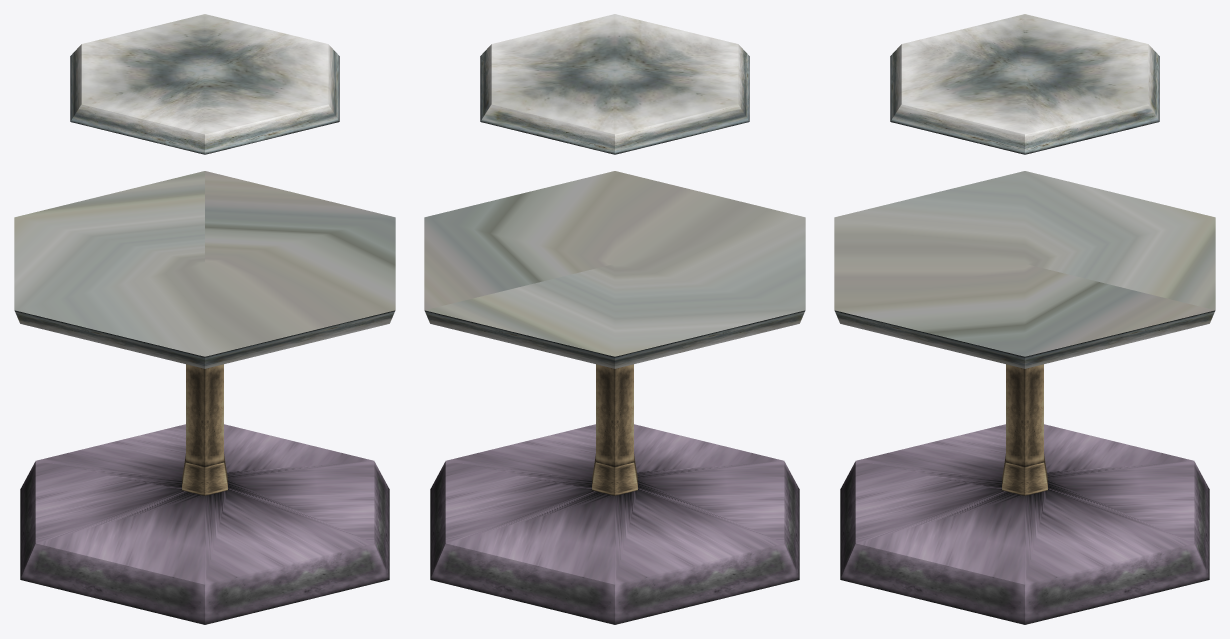
File: lamp_table.DAE
The picture shows the model from 3 angles, left to right: view 1: azimuth 30°, elevation 25°; view 2: azimuth 150°, elevation 25°; view 3: azimuth 270°, elevation 25°; orthographic projection.
Parts seen in each view (by area): view 1: Cylinder02; view 2: Cylinder02; view 3: Cylinder02.
Boxes of the visible parts, <box> form: Cylinder02: <box>14,14,395,624</box>; Cylinder02: <box>424,14,805,624</box>; Cylinder02: <box>834,14,1215,624</box>.
Size of the model in its own units: 0.3134 by 0.4178 by 0.2714.
